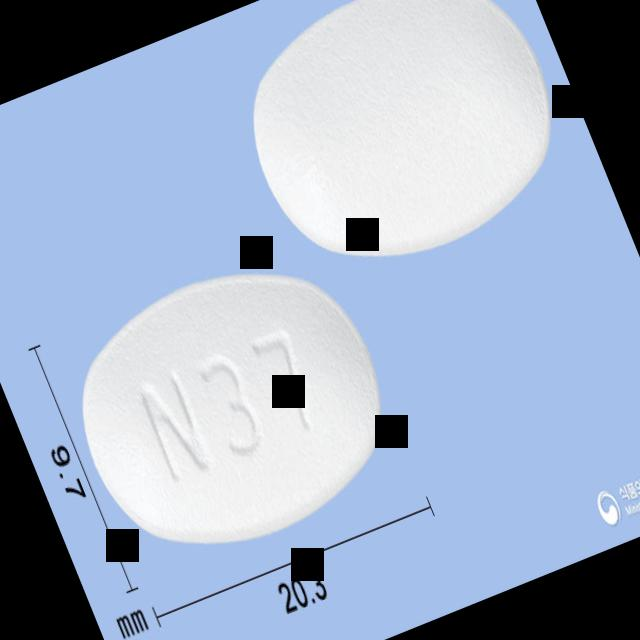Moxiclen Tab-625mg: (43, 228, 418, 587)
